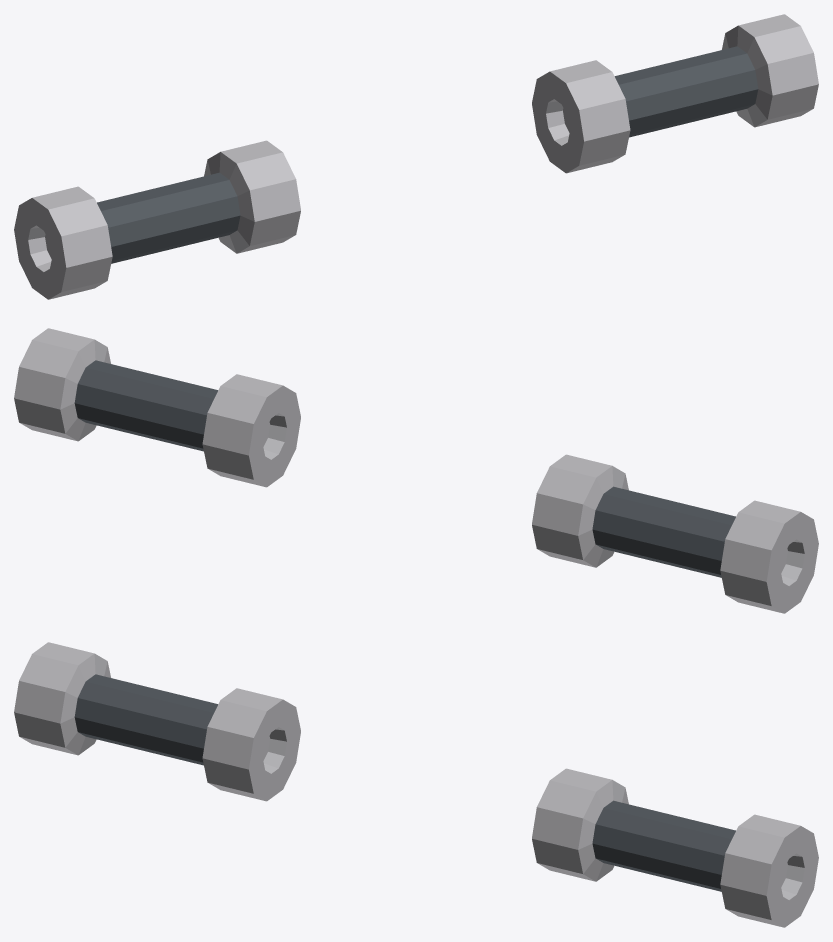
The model's file is Mothership_01_Hinges.fbx.
3 views of the same model, one above another, from view 1: azimuth 30°, elevation 25°; view 2: azimuth 150°, elevation 25°; view 3: azimuth 330°, elevation 25° (orthographic).
Visible parts, largest first — view 1: Mothership_01_Hinges; view 2: Mothership_01_Hinges; view 3: Mothership_01_Hinges.
Part boxes in pixels (bbox=[...]): Mothership_01_Hinges: bbox=[14, 14, 818, 299]; Mothership_01_Hinges: bbox=[14, 328, 818, 613]; Mothership_01_Hinges: bbox=[14, 642, 818, 927].
Size of the model in its own units: 965 by 111 by 116.
Materials: 1 (1 with a texture image).
